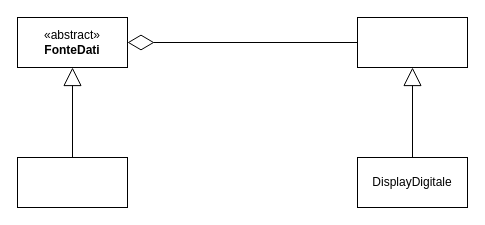
The diagram is 485 pixels wide and 225 high, and some of its shapes have lost their labels. The shapes that lost their labels are listed below. From the top down, each one's centre as x and y in pixels, then its label:
At point 412,42: "«interface» Monitor".
At point 72,182: "SensorePressione".
